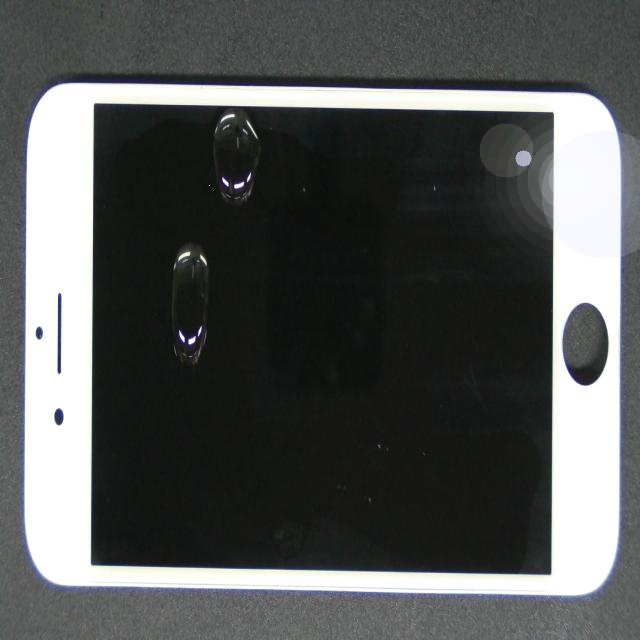oil: (119, 138, 301, 379), (104, 79, 313, 240)
